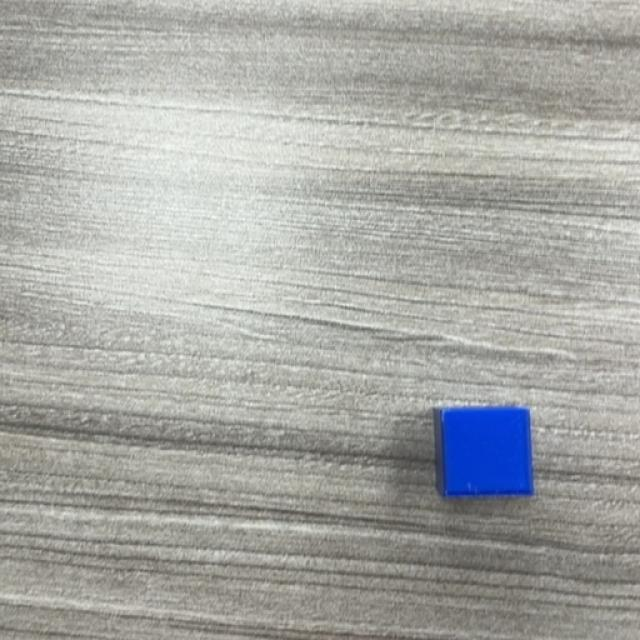Azul: (434, 408, 535, 501)
